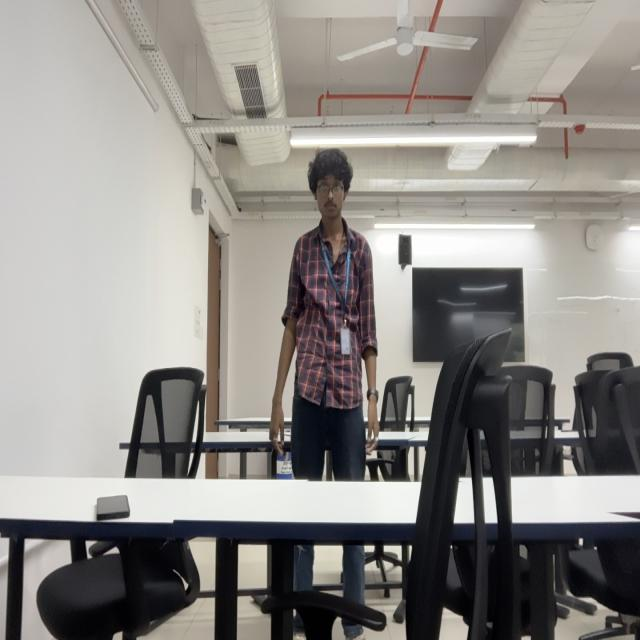darshan: (306, 147, 354, 219)
